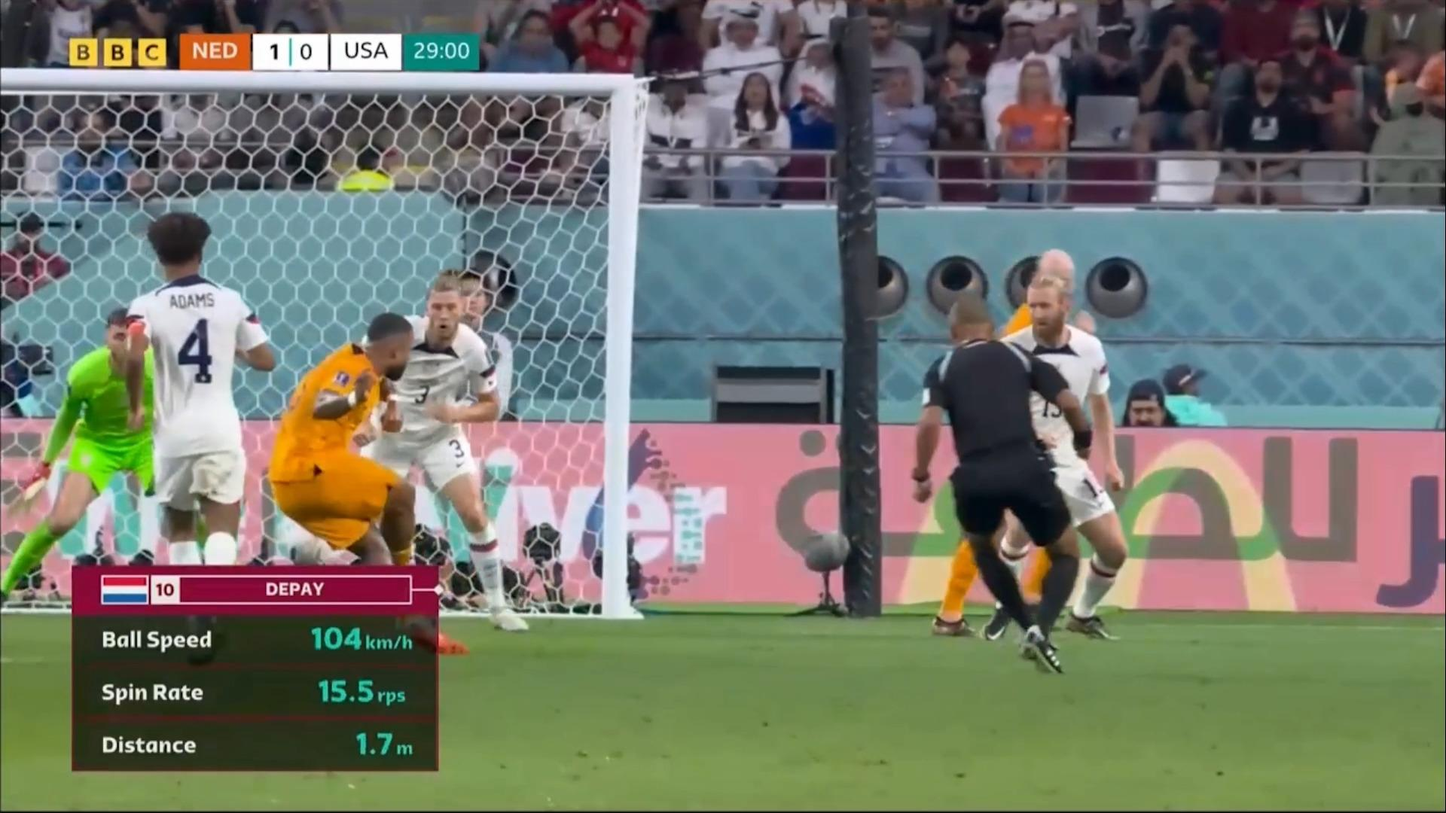Ball: (285, 522, 334, 567)
Player: (273, 299, 470, 657), (126, 207, 276, 663), (933, 239, 1098, 638), (363, 271, 529, 630), (988, 274, 1127, 652), (1, 305, 160, 601), (1212, 59, 1314, 207), (714, 72, 792, 206)
Ref: (914, 289, 1094, 681)
